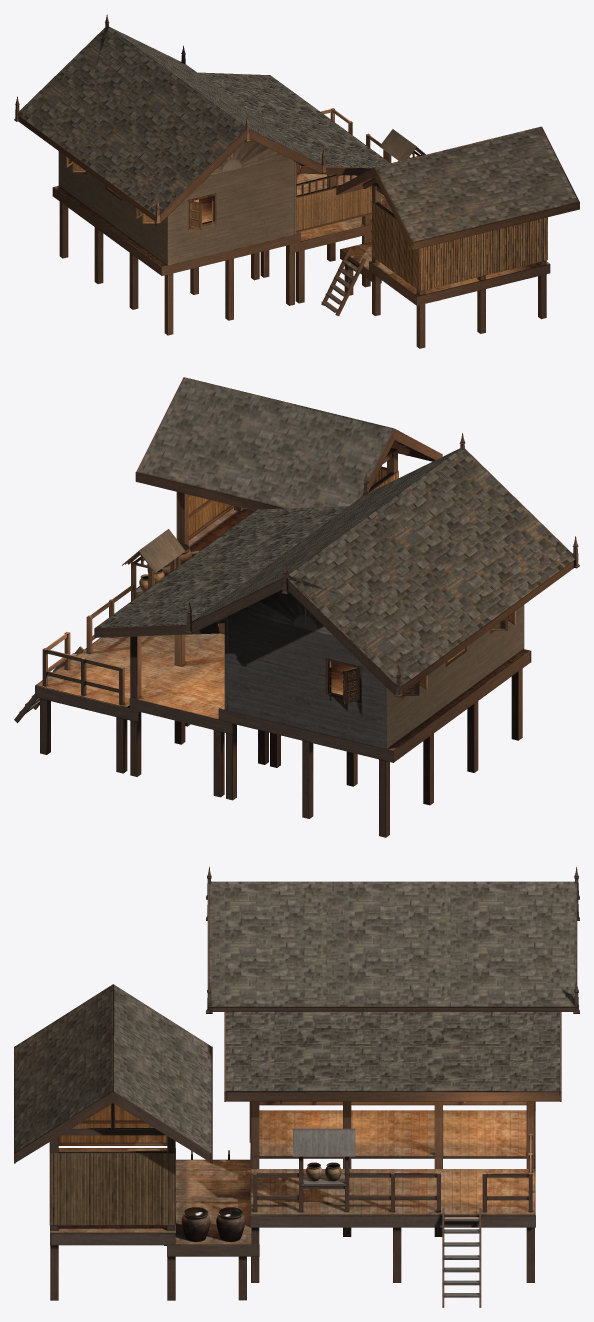
The model's file is 08-HERNKEAY.glb.
The picture shows the model from 3 angles, top to bottom: view 1: azimuth 30°, elevation 25°; view 2: azimuth 150°, elevation 25°; view 3: azimuth 270°, elevation 25°; orthographic projection. The views are drawn at different scales.
Visible parts, largest first — view 1: Cube.154; view 2: Cube.154; view 3: Cube.154.
Boxes of the visible parts, left/top/right/bottom form: Cube.154: left=14, top=14, right=579, bottom=348; Cube.154: left=14, top=377, right=579, bottom=837; Cube.154: left=14, top=866, right=579, bottom=1307.
Bounding box in the file's own units: 12.69 × 7.46 × 13.56.
1 material, 1 textured.
